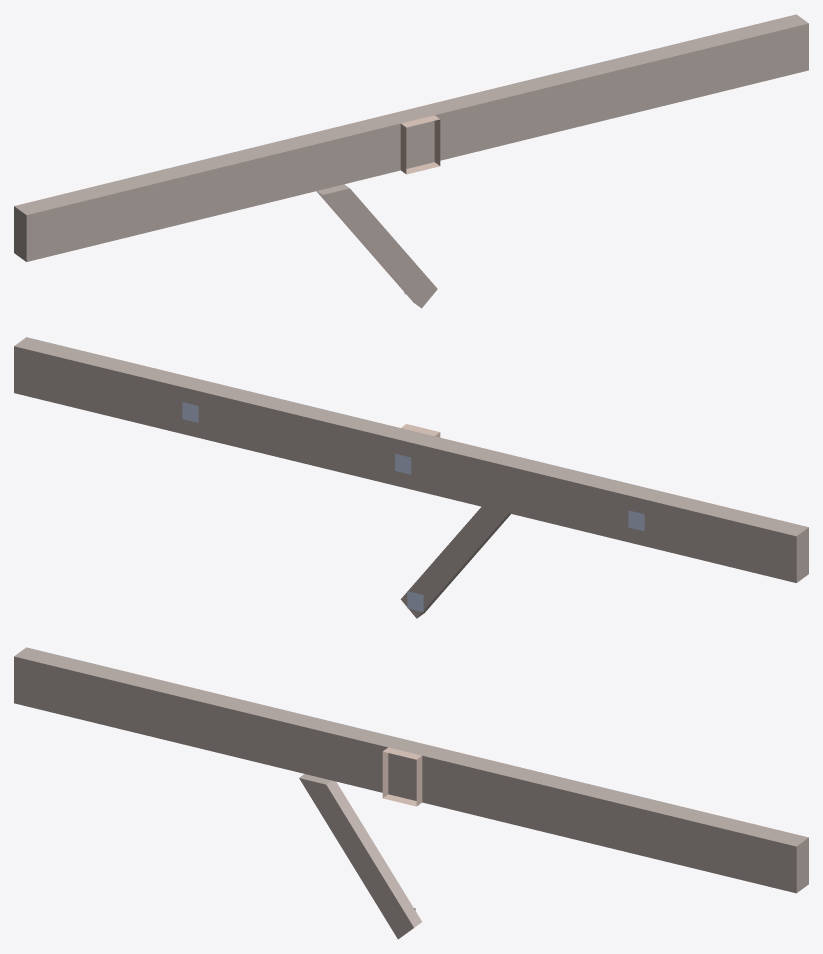
Rendered from electrical_crosspiece.dae.
3 views of the same model, one above another, from view 1: azimuth 30°, elevation 25°; view 2: azimuth 150°, elevation 25°; view 3: azimuth 330°, elevation 25° (orthographic).
Visible parts, largest first — view 1: electrical_crosspiece_a100; view 2: electrical_crosspiece_a100; view 3: electrical_crosspiece_a100.
Boxes of the visible parts, bbox=[...] form: electrical_crosspiece_a100: bbox=[14, 14, 808, 308]; electrical_crosspiece_a100: bbox=[14, 337, 808, 618]; electrical_crosspiece_a100: bbox=[14, 647, 808, 939].
Size of the model in its own units: 2.1 by 0.0963 by 0.4742.
